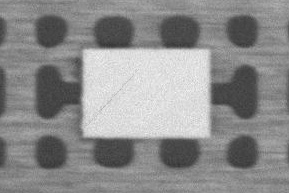DIE_CRACK: (127, 46, 207, 85)
